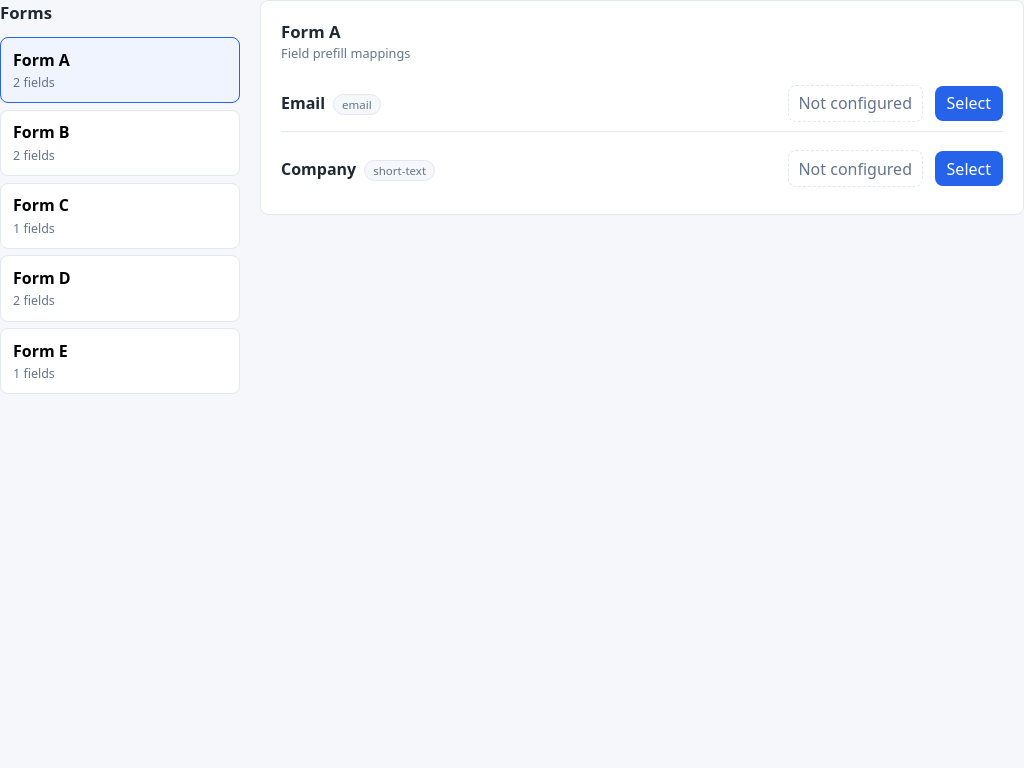
Test: PrefillWorkspace › offers direct, transitive, and global sources in the picker
Click the button "Form D 2 fields": (120,288) [0,255,240,322]
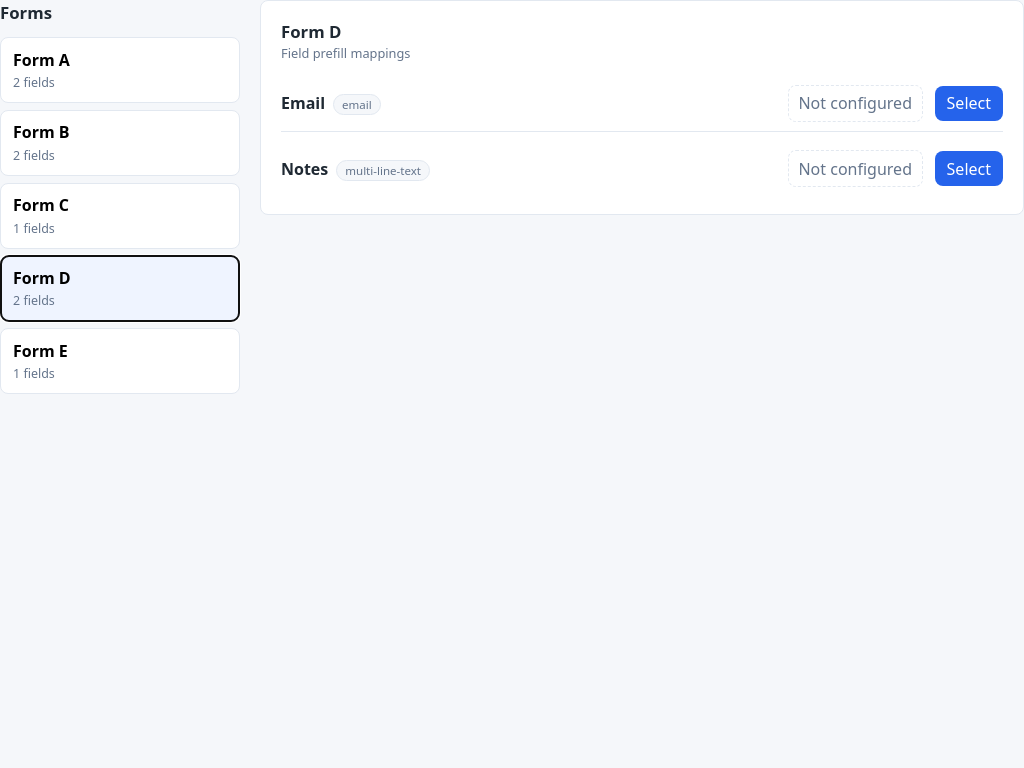
Click the button "Select" in the row of "Notes": (969,168) [935,151,1003,186]
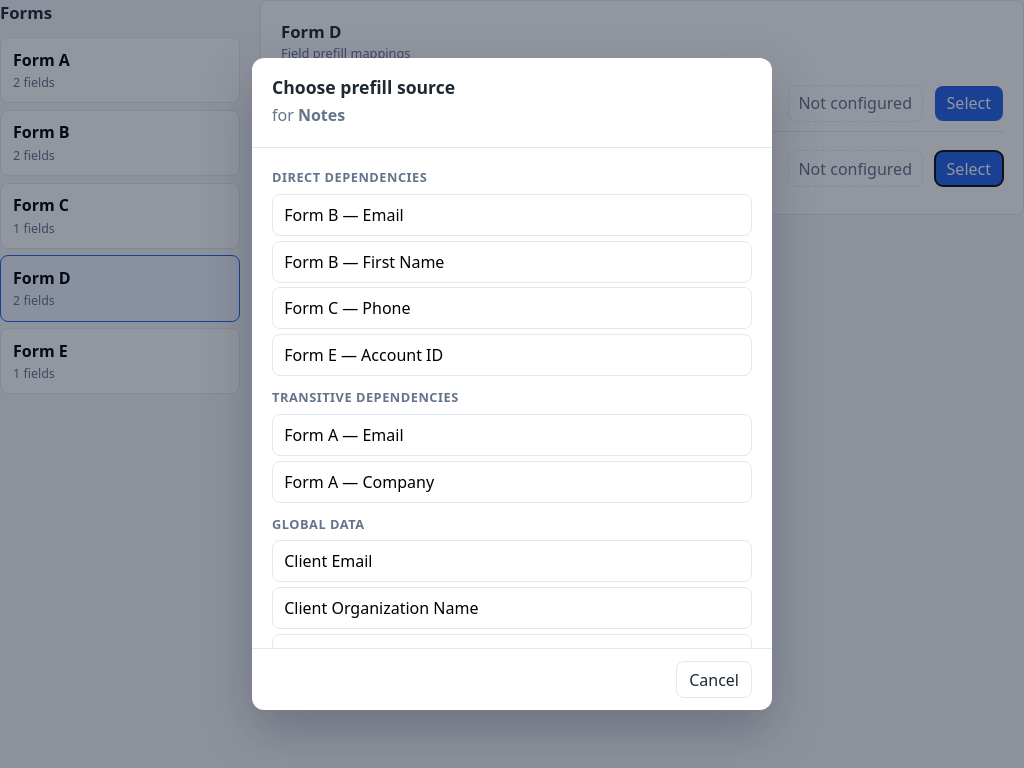
Expected: the heading "Direct Dependencies" is shown, [272,168,427,186]
Expected: the heading "Transitive Dependencies" is shown, [272,388,459,406]
Expected: the heading "Global Data" is shown, [272,514,364,532]
